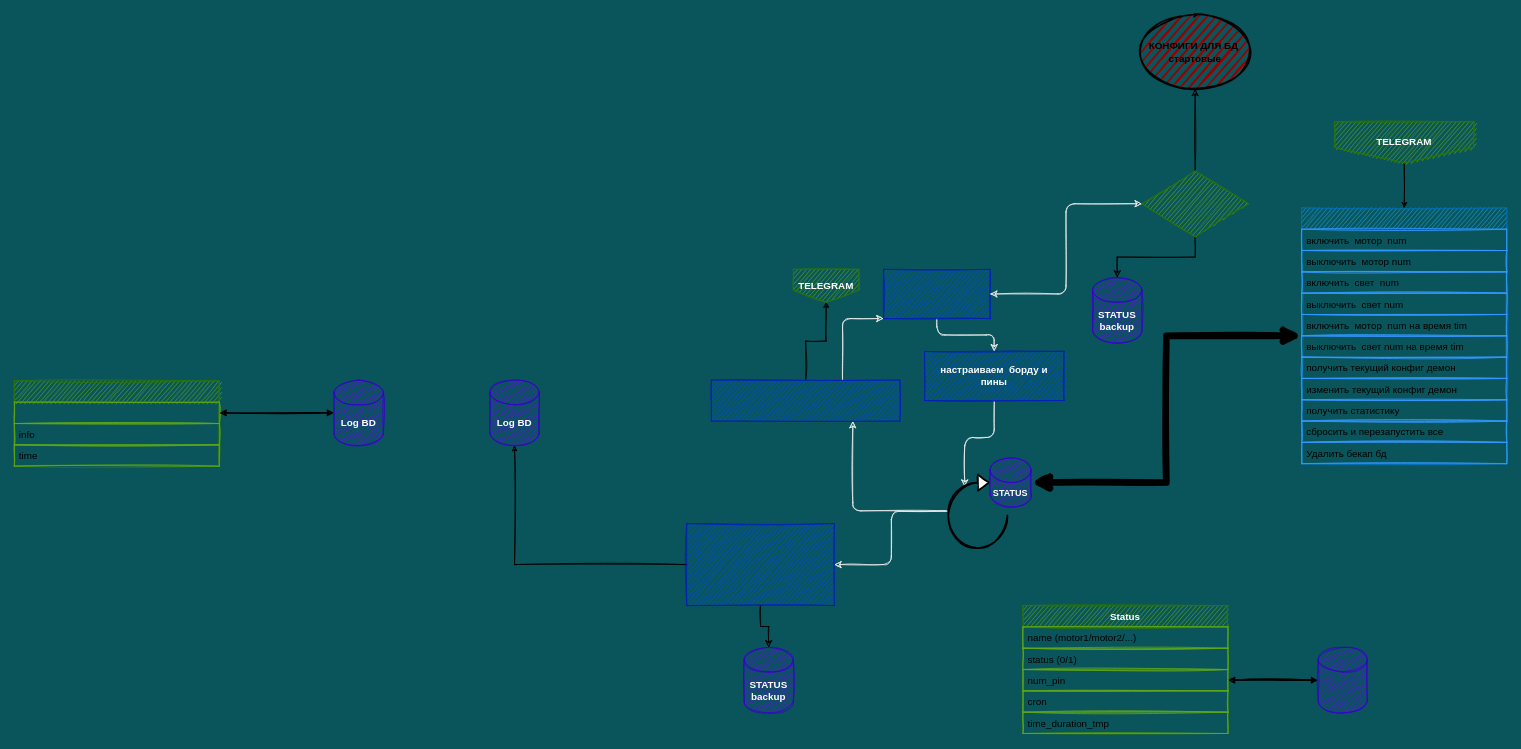
This 1521x749 diagram has some shape labels left out. The box of each missing label's shape, as (x1, y1, x2, y2) in pixels:
API: (1301, 207, 1507, 464)
DEMON: (947, 473, 1008, 549)
name: (14, 401, 219, 424)
STAT: (14, 380, 219, 466)
STATUS sqlite: (1317, 647, 1367, 713)
ЕСЛИ ЕСТЬ backup: (1141, 170, 1248, 237)
если ошибка отпровляем в телегу сообщение сбрасыаваем в: (711, 379, 900, 421)
ЕСЛИ пин изменился обновляем его и пишим лог + обновляем бекап: (686, 523, 834, 606)
Удаляем и собираем бд заново: (883, 269, 990, 319)
